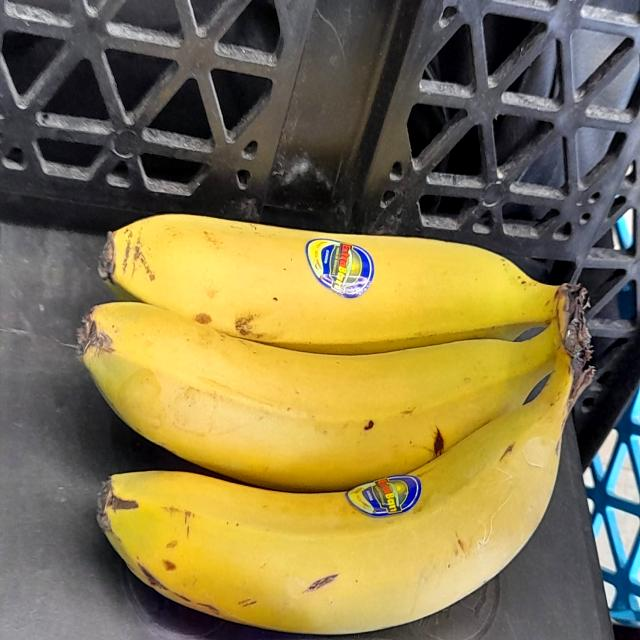banana: (82, 231, 596, 640)
